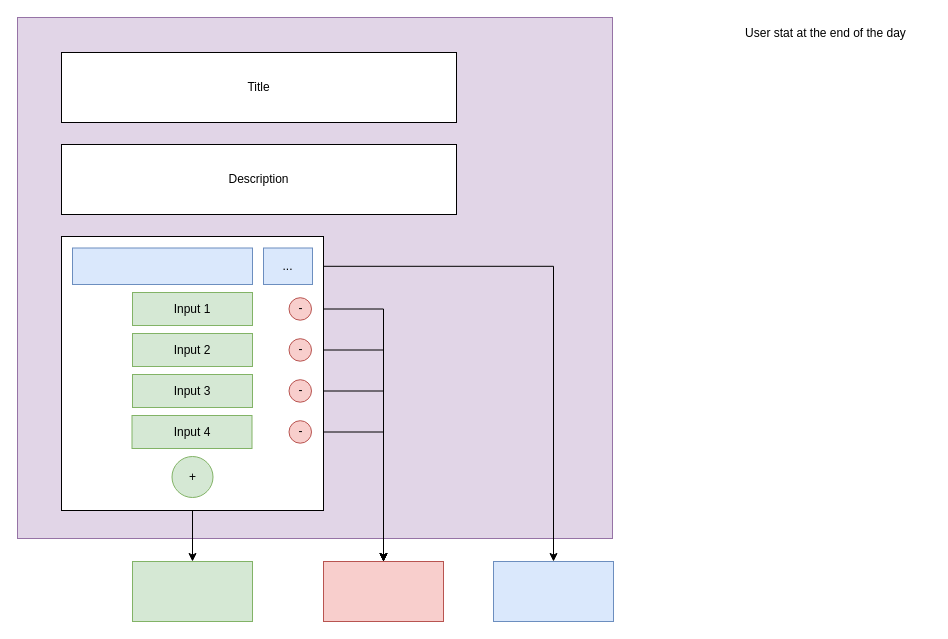
Image size: 948x639. Some labels were removed from this diagram. Each missing label, with the centre of its shape:
- Add row (right) - Add row (left) - Delete row: [553,591]
Add: [192,591]
Column title: [162,265]
Delete: [383,591]
